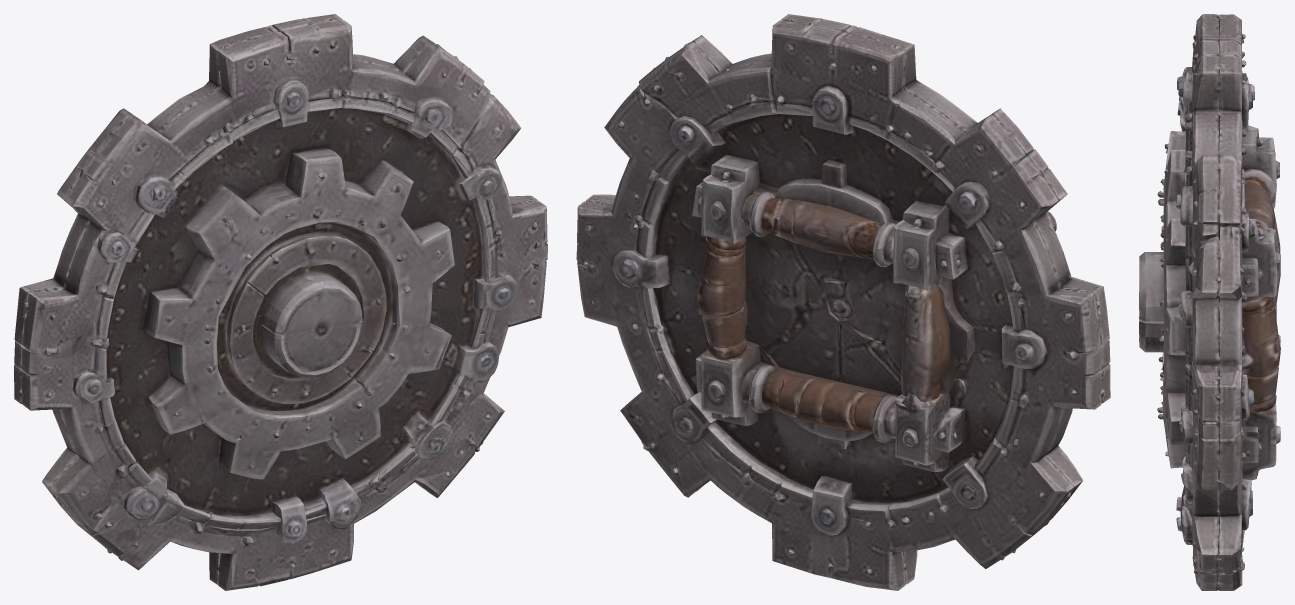
Rendered from gear-shield.glb.
3 views of the same model, side by side, from view 1: azimuth 30°, elevation 25°; view 2: azimuth 150°, elevation 25°; view 3: azimuth 270°, elevation 25° (orthographic). The views are drawn at different scales.
Parts seen in each view (by area): view 1: Mesh_0; view 2: Mesh_0; view 3: Mesh_0.
Boxes of the visible parts, bbox=[...] form: Mesh_0: bbox=[14, 14, 547, 590]; Mesh_0: bbox=[576, 14, 1110, 590]; Mesh_0: bbox=[1139, 14, 1280, 590].
Bounding box in the file's own units: 1.9 × 1.9 × 0.4639.
Materials: 1 (1 with a texture image).
